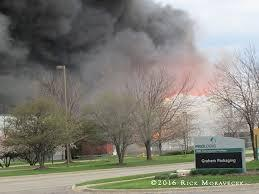smoke: (1, 0, 208, 106)
